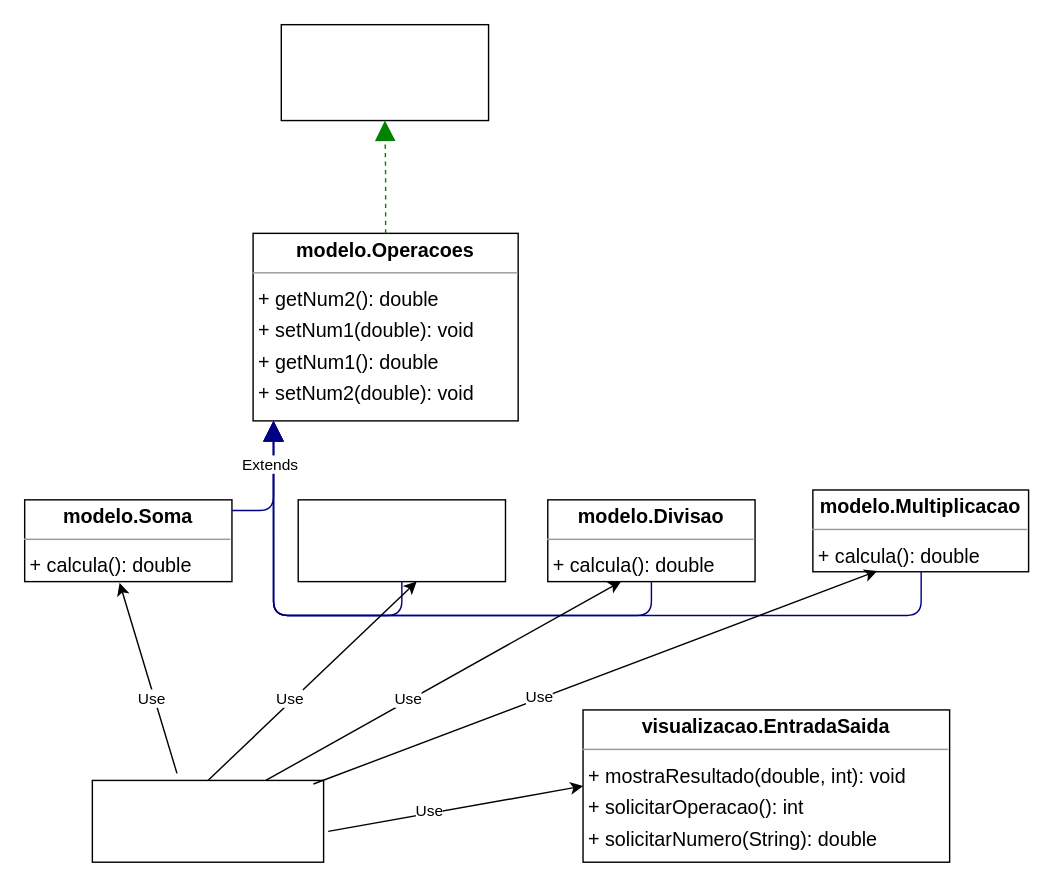
This 1053x887 diagram has some shape labels left out. The centre of each missing label's shape, as x and y in pixels:
<<interface>> modelo.IOperacao + calcula(): double: pixel 384 72
controle.Principal + main(String[]): void: pixel 207 820
modelo.Subtracao + calcula(): double: pixel 401 540
